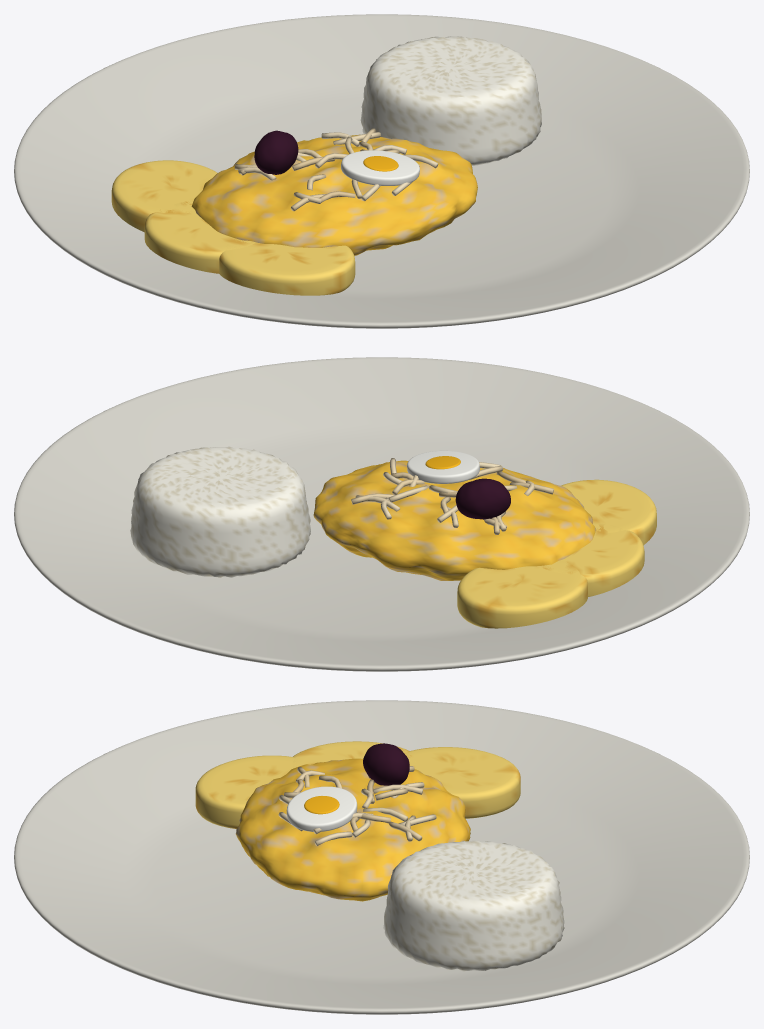
Rendered from paso-5.glb.
3 views of the same model, one above another, from view 1: azimuth 30°, elevation 25°; view 2: azimuth 150°, elevation 25°; view 3: azimuth 270°, elevation 25° (orthographic).
Parts seen in each view (by area): view 1: paso-5-0, paso-5-4, paso-5-34, paso-5-3, paso-5-1, paso-5-2, paso-5-31, paso-5-33; view 2: paso-5-0, paso-5-4, paso-5-34, paso-5-1, paso-5-2, paso-5-3, paso-5-33, paso-5-31; view 3: paso-5-0, paso-5-34, paso-5-4, paso-5-1, paso-5-3, paso-5-31, paso-5-33, paso-5-2, paso-5-32.
Boxes of the visible parts, x1=… form: paso-5-0: x1=14, y1=14, x2=749, y2=328; paso-5-4: x1=191, y1=134, x2=477, y2=255; paso-5-34: x1=360, y1=36, x2=541, y2=165; paso-5-3: x1=219, y1=238, x2=355, y2=295; paso-5-1: x1=111, y1=160, x2=217, y2=232; paso-5-2: x1=144, y1=201, x2=255, y2=273; paso-5-31: x1=341, y1=150, x2=419, y2=185; paso-5-33: x1=254, y1=130, x2=298, y2=174; paso-5-0: x1=14, y1=357, x2=749, y2=671; paso-5-4: x1=313, y1=460, x2=595, y2=580; paso-5-34: x1=130, y1=446, x2=310, y2=577; paso-5-1: x1=457, y1=560, x2=587, y2=628; paso-5-2: x1=541, y1=523, x2=644, y2=596; paso-5-3: x1=561, y1=479, x2=656, y2=545; paso-5-33: x1=455, y1=478, x2=510, y2=519; paso-5-31: x1=407, y1=450, x2=479, y2=483; paso-5-0: x1=14, y1=700, x2=749, y2=1014; paso-5-34: x1=383, y1=840, x2=564, y2=971; paso-5-4: x1=235, y1=758, x2=470, y2=901; paso-5-1: x1=405, y1=747, x2=520, y2=818; paso-5-3: x1=195, y1=755, x2=310, y2=828; paso-5-31: x1=286, y1=786, x2=357, y2=831; paso-5-33: x1=363, y1=743, x2=409, y2=785; paso-5-2: x1=292, y1=741, x2=415, y2=768; paso-5-32: x1=304, y1=796, x2=339, y2=814.
Bounding box in the file's own units: 0.32 × 0.0468 × 0.32.
